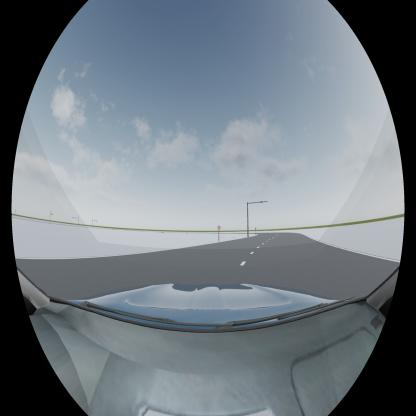Red Light: (260, 201, 264, 203)
Speed Limit 110: (218, 226, 221, 230)
